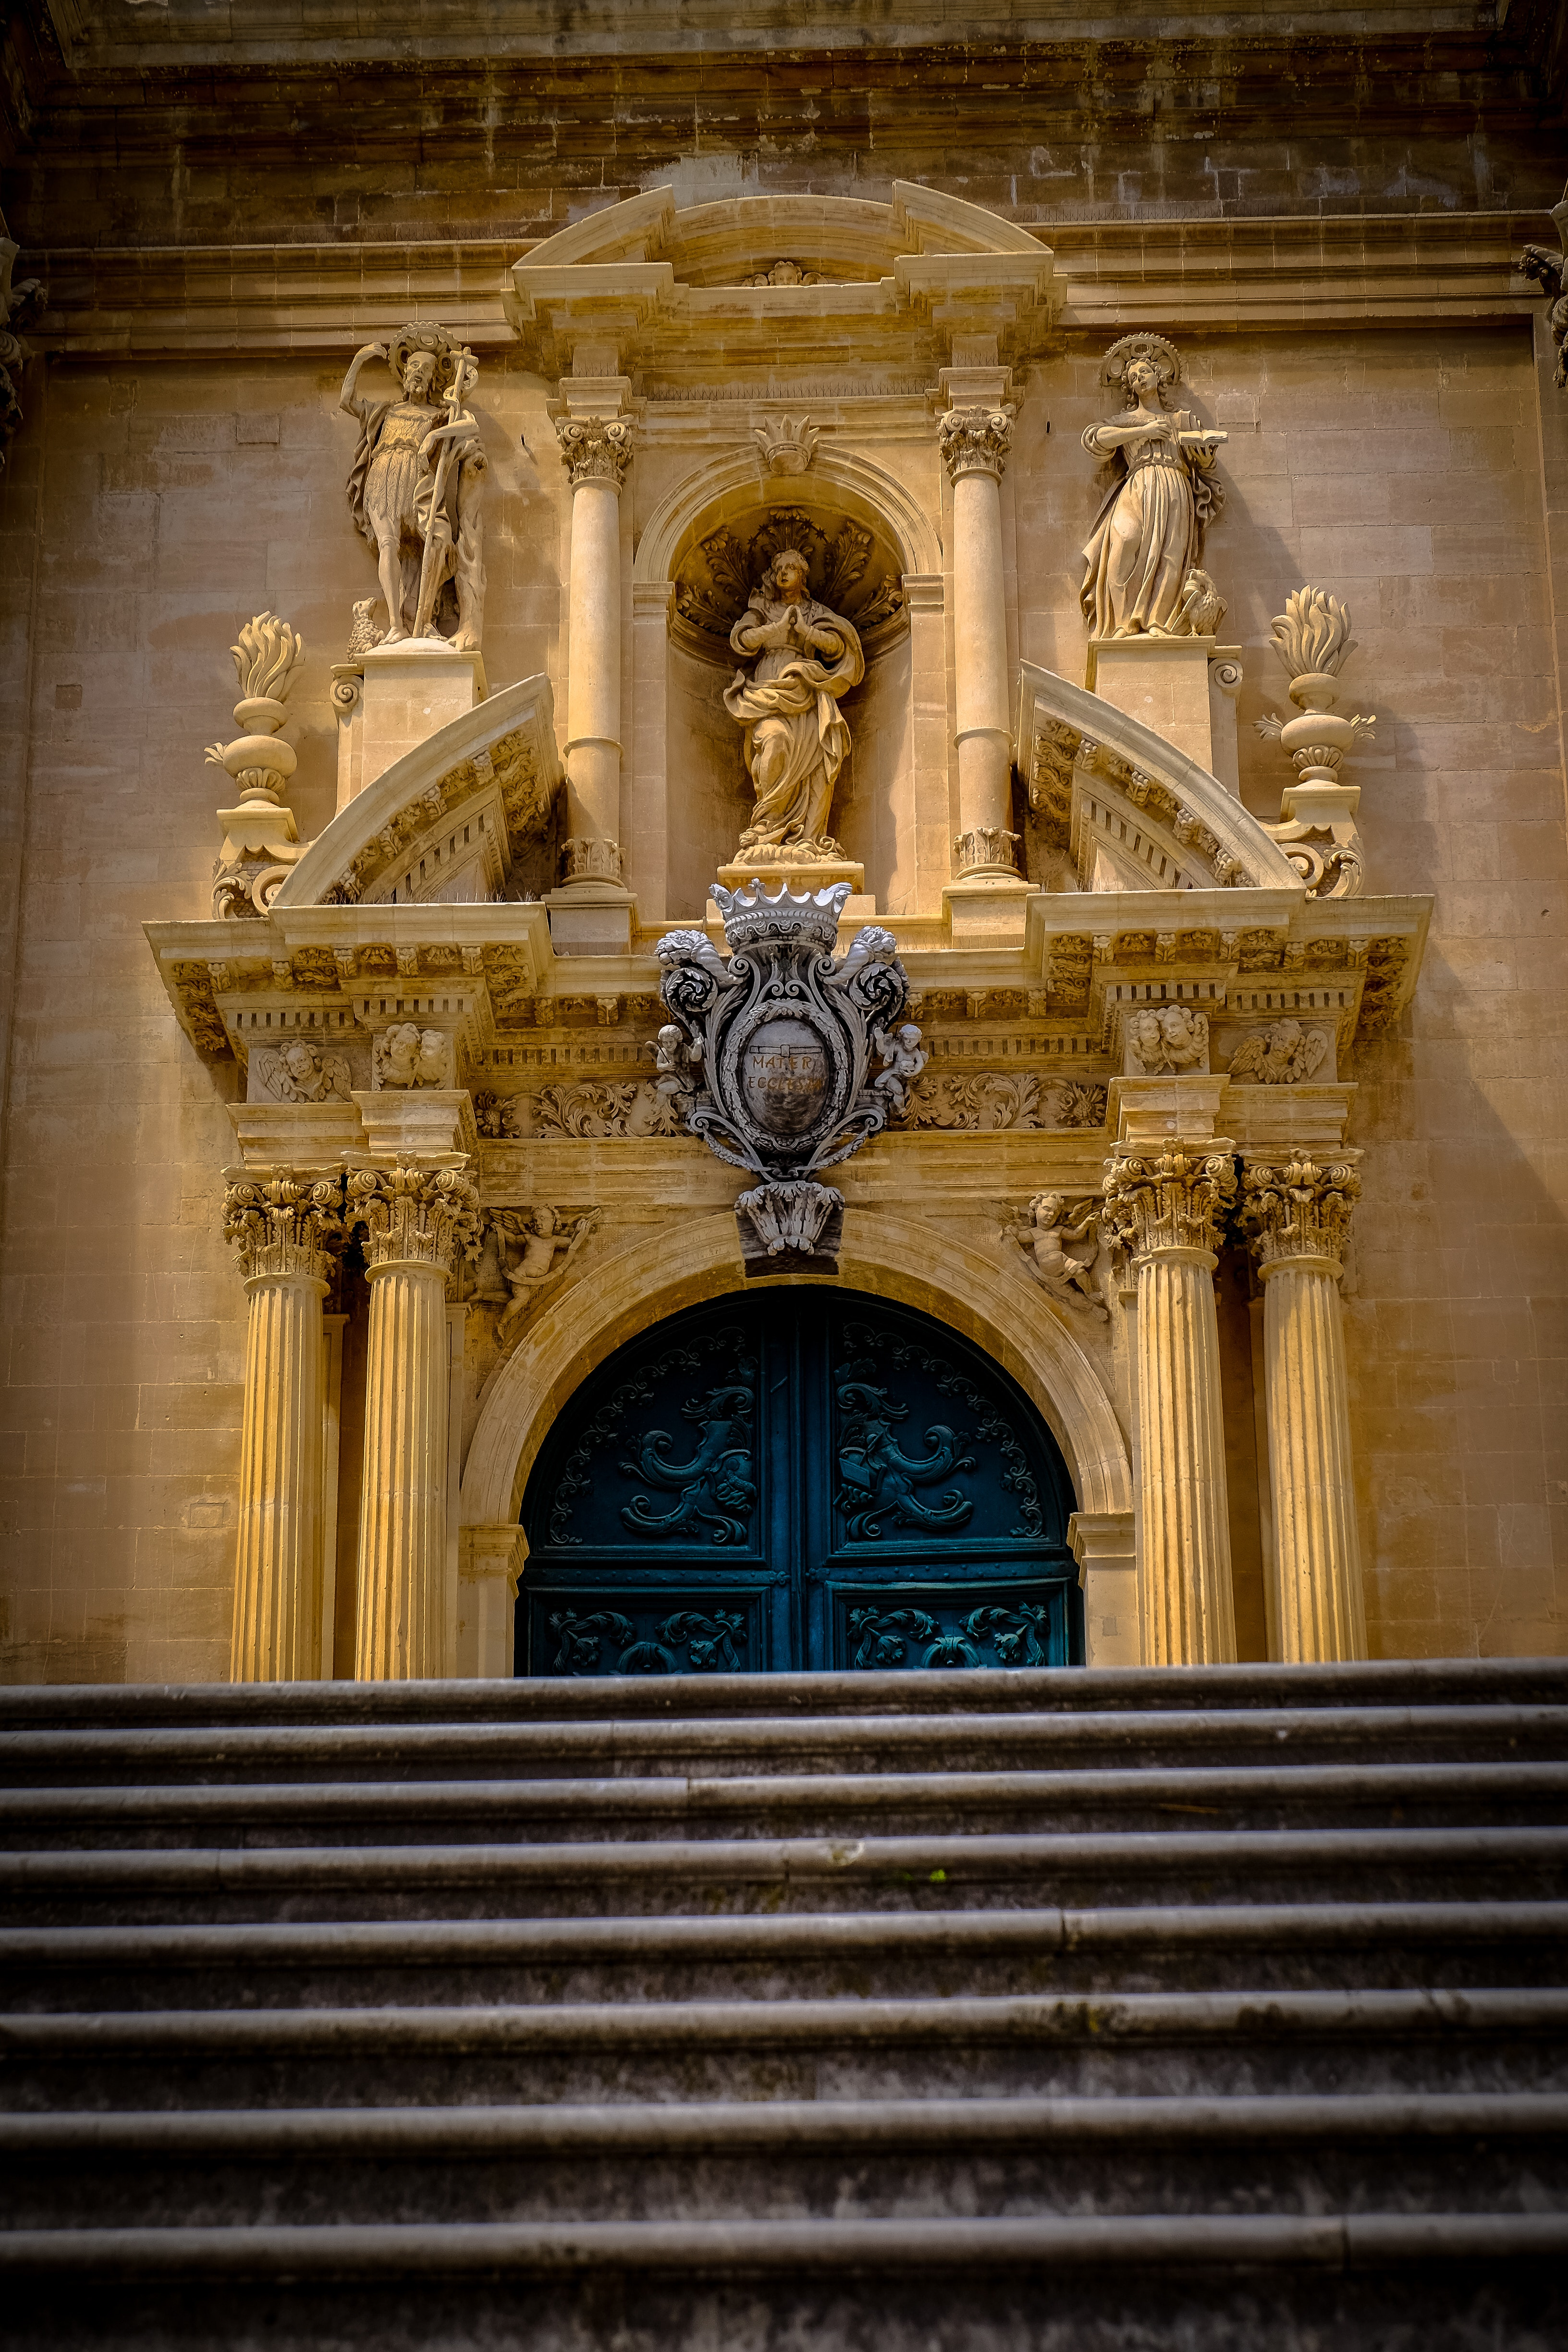upstairs: (0, 1678, 1568, 2352)
